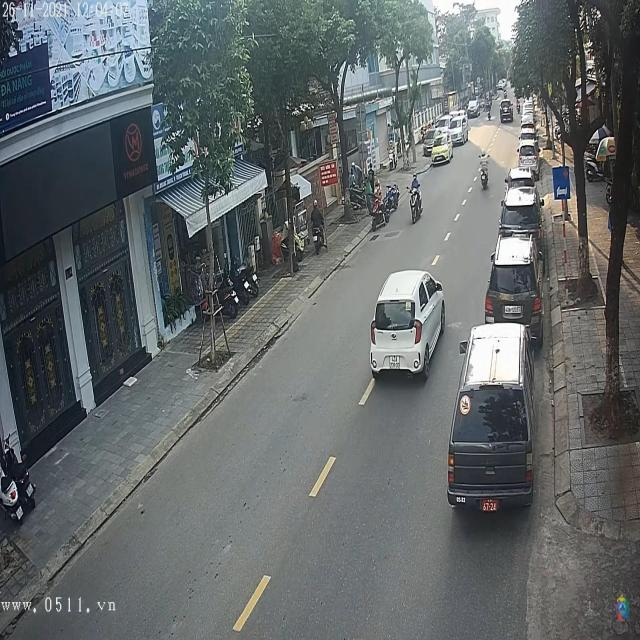car: (450, 323, 535, 512), (367, 270, 448, 379), (485, 238, 543, 332), (499, 187, 543, 238), (518, 146, 539, 170), (468, 99, 482, 118), (501, 102, 513, 124)
motorcycle: (410, 186, 424, 225), (480, 163, 490, 191)
